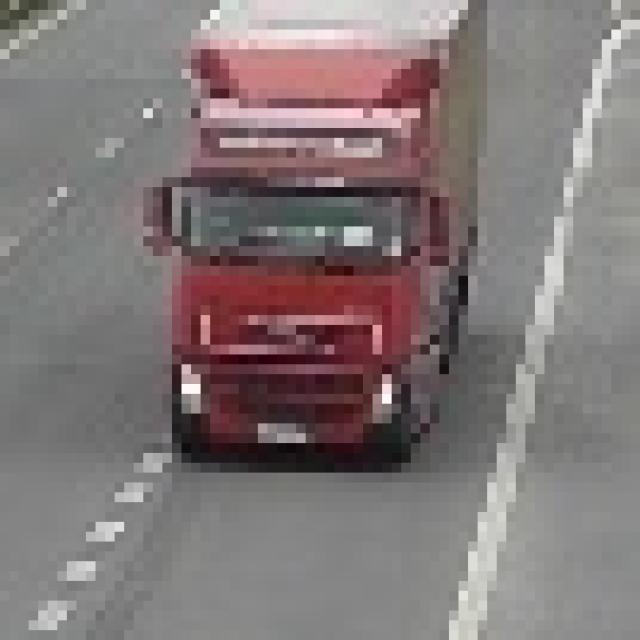TRUCK: (153, 0, 487, 463)
